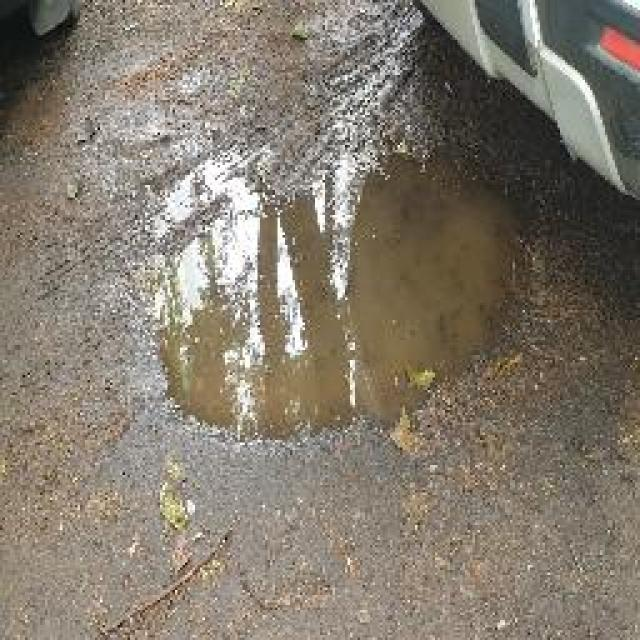puddle: (151, 148, 529, 452)
